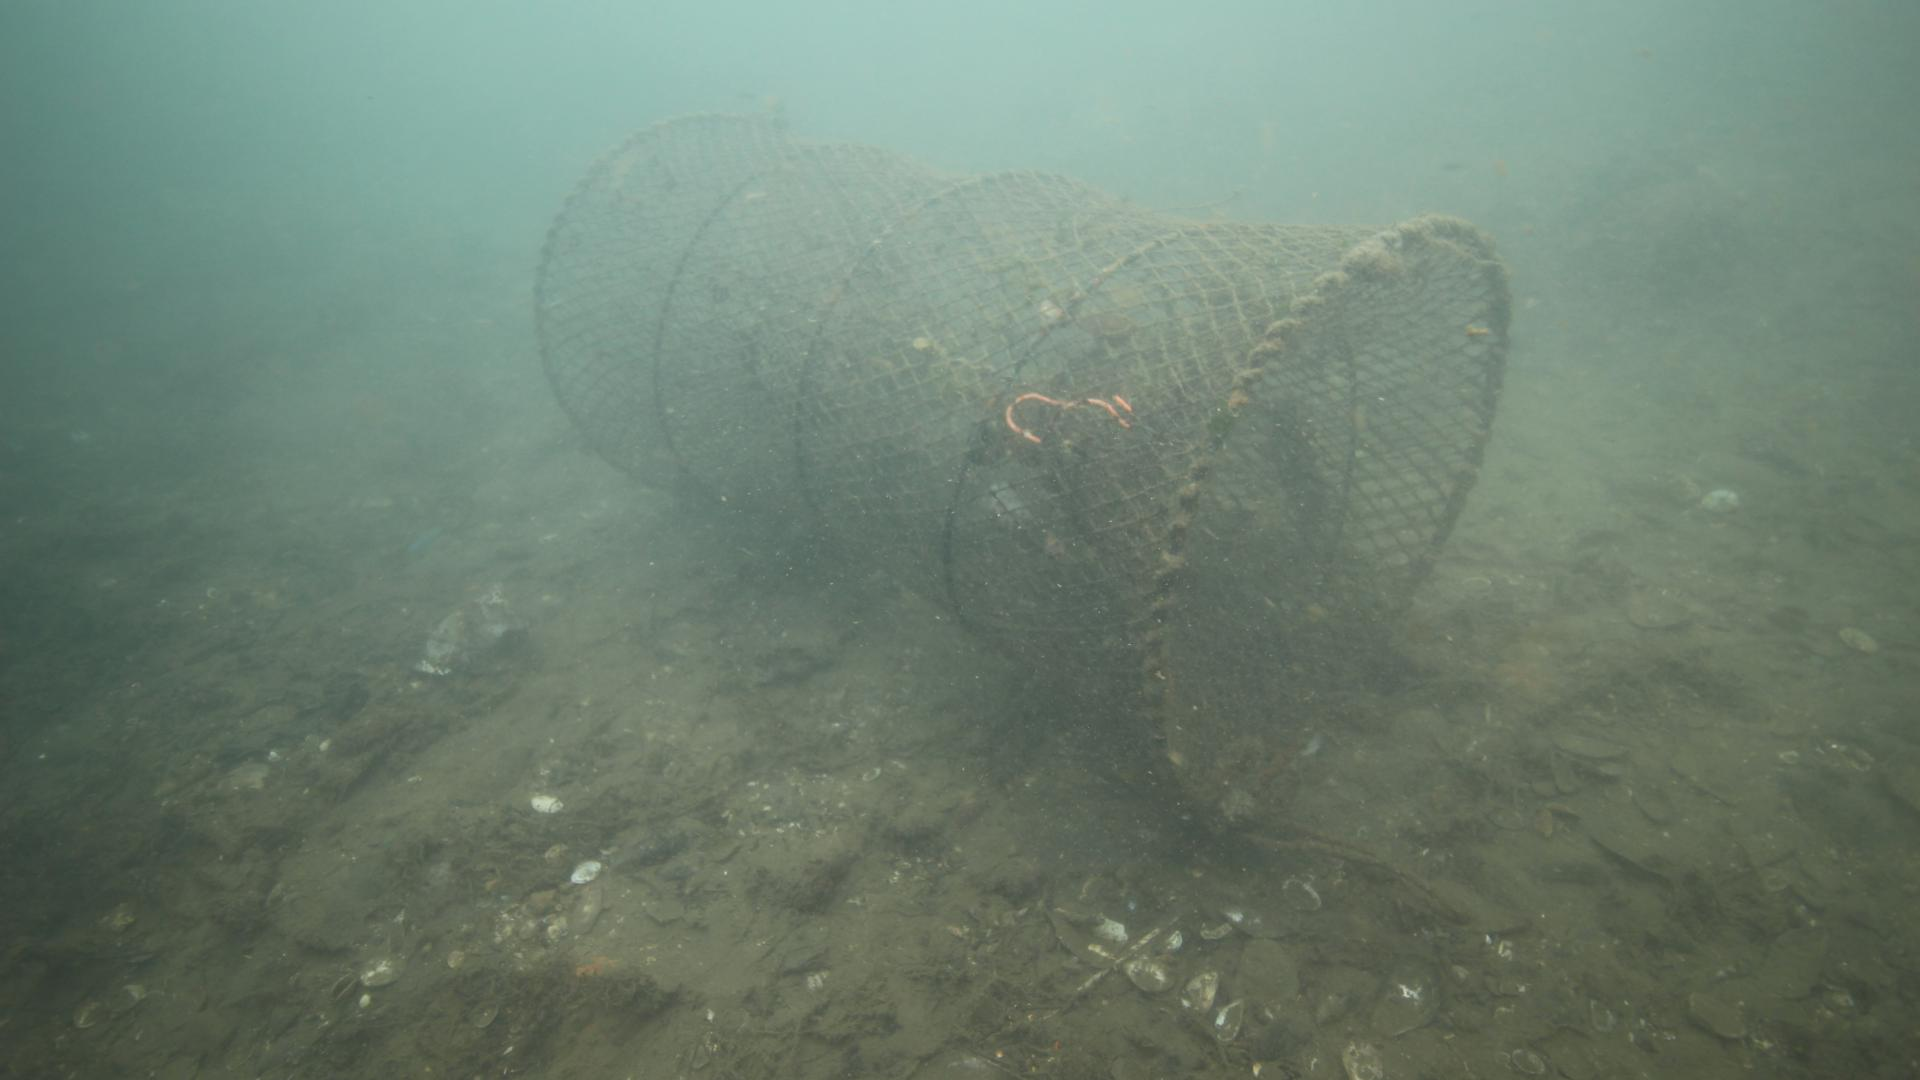spring fish trap: (527, 109, 1514, 825)
